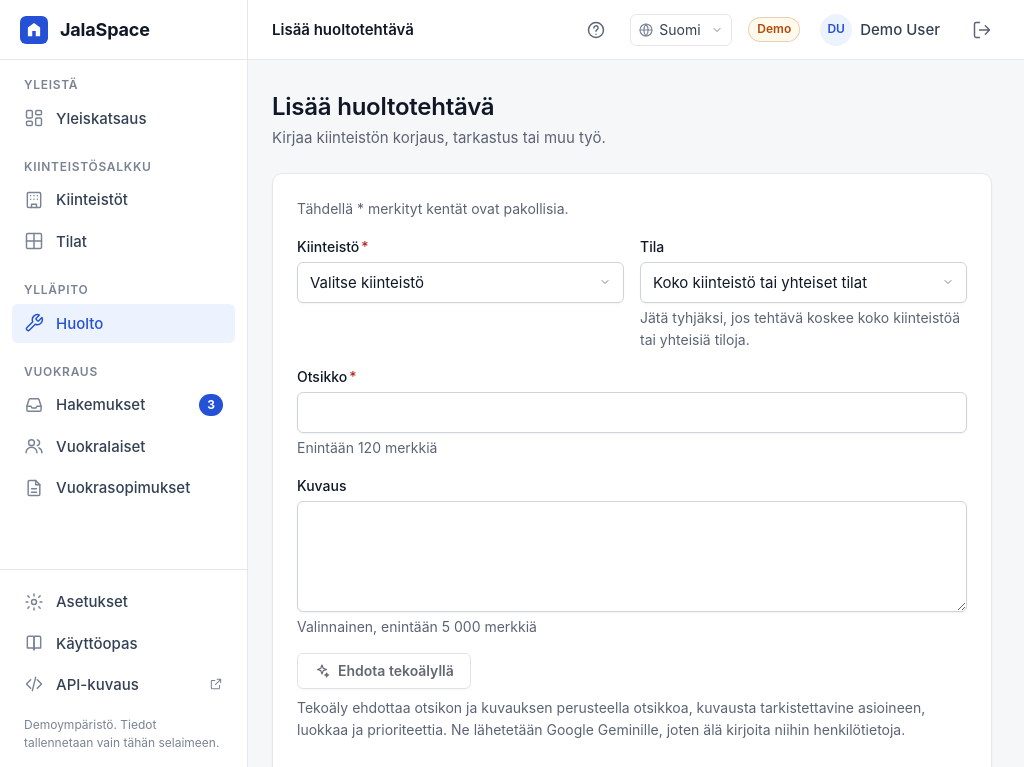
Scenario: AI maintenance suggestions › asks for the title and description in the UI language
The image size is (1024, 767).
Type "Vettä vuotaa tiskipöydän alla." into the text box labelled "Kuvaus". click: {"x": 632, "y": 556}
box: [297,501,967,612]
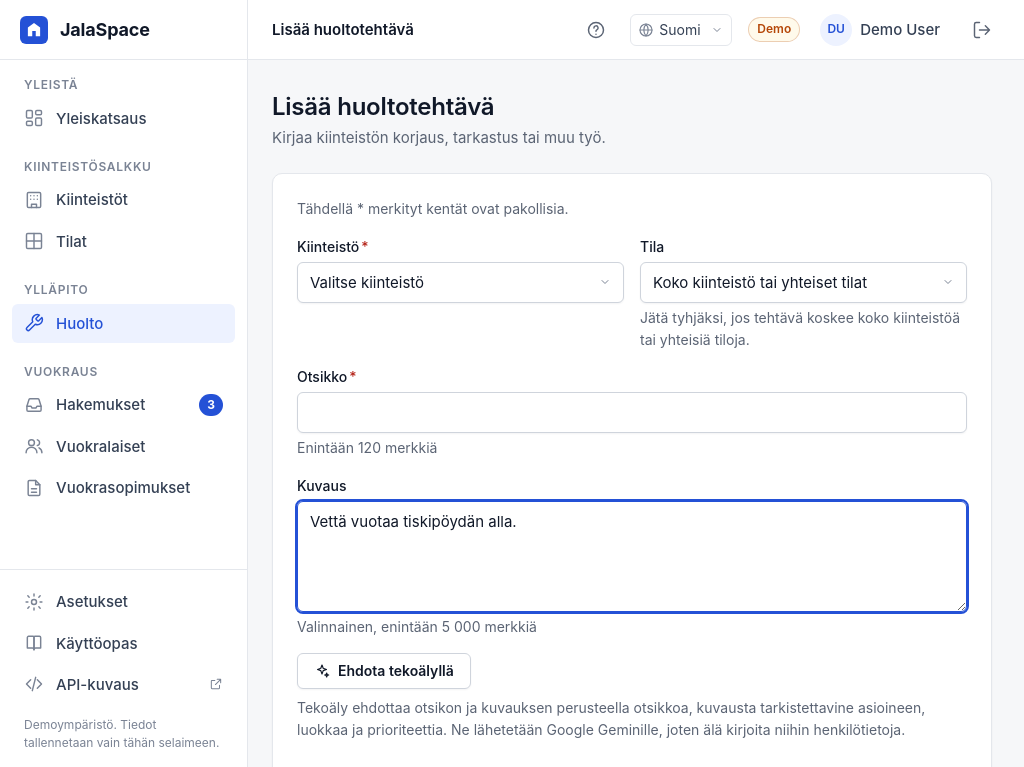
Click the button "Ehdota tekoälyllä". click: {"x": 384, "y": 671}
box: [297,653,471,689]
(page scrolled)
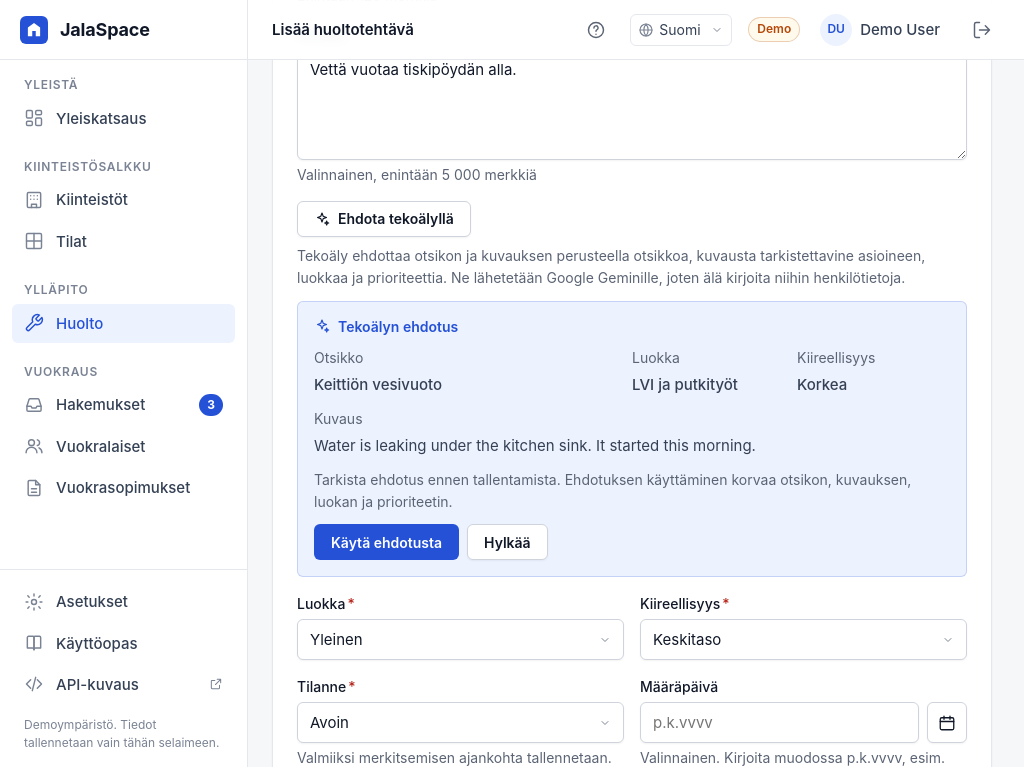
Expected: the text "Keittiön vesivuoto" is shown, [314,375,442,394]
